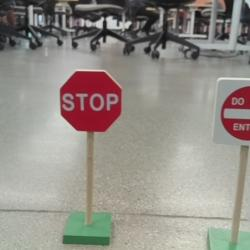do_not_enter: (214, 77, 250, 146)
stop: (60, 70, 122, 132)
